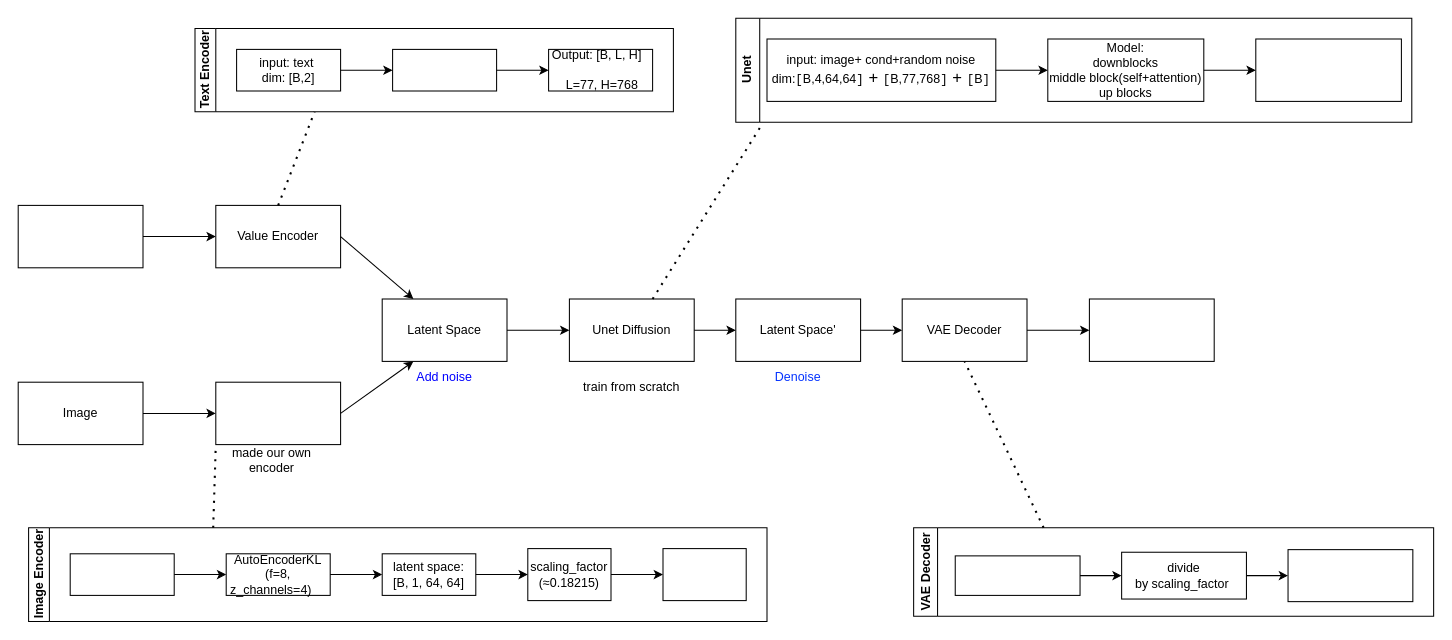
This 1452x640 diagram has some shape labels left out. The centre of each missing label's shape, as x and y in pixels:
Image Encoder (VAE): the point at 278,413
input: [B,4,64,64]: the point at 1017,575
Input: Image(gray 1x512x512) dim:[B,1,512,512]: the point at 121,574
New Image: the point at 1151,329
numeric encoder: the point at 444,69
output: [B, 1, 64, 64]: the point at 704,574
output:image gray dim:[B,1,512,512]: the point at 1350,575
output:predicted noise dim:[B,4,64,64]: the point at 1328,69
Value: the point at 80,236
